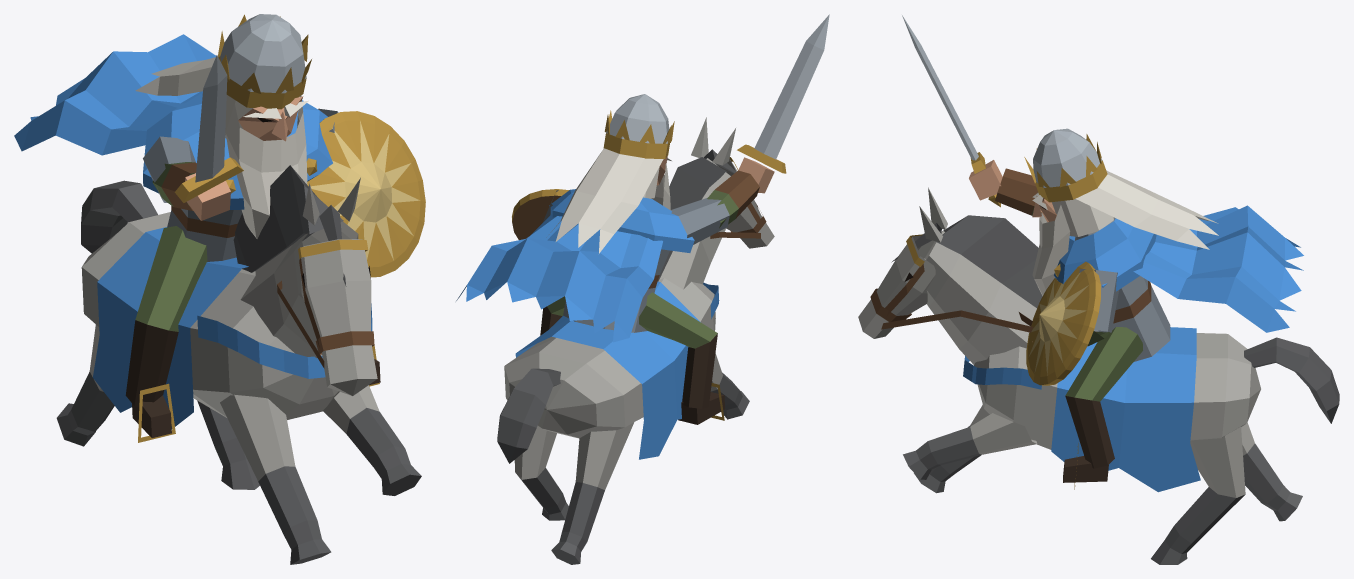
File: theoden-3.glb
3 views of the same model, side by side, from view 1: azimuth 30°, elevation 25°; view 2: azimuth 150°, elevation 25°; view 3: azimuth 270°, elevation 25° (orthographic). The views are drawn at different scales.
Visible parts, largest first — view 1: theoden-3; view 2: theoden-3; view 3: theoden-3.
Part boxes in pixels (x1,y1,x2,y2): theoden-3: (14,14,425,564); theoden-3: (456,14,829,564); theoden-3: (858,15,1339,564).
Bounding box in the file's own units: 1.01 × 1.81 × 1.68.
